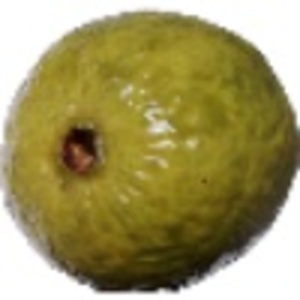goiaba: (3, 7, 299, 291)
